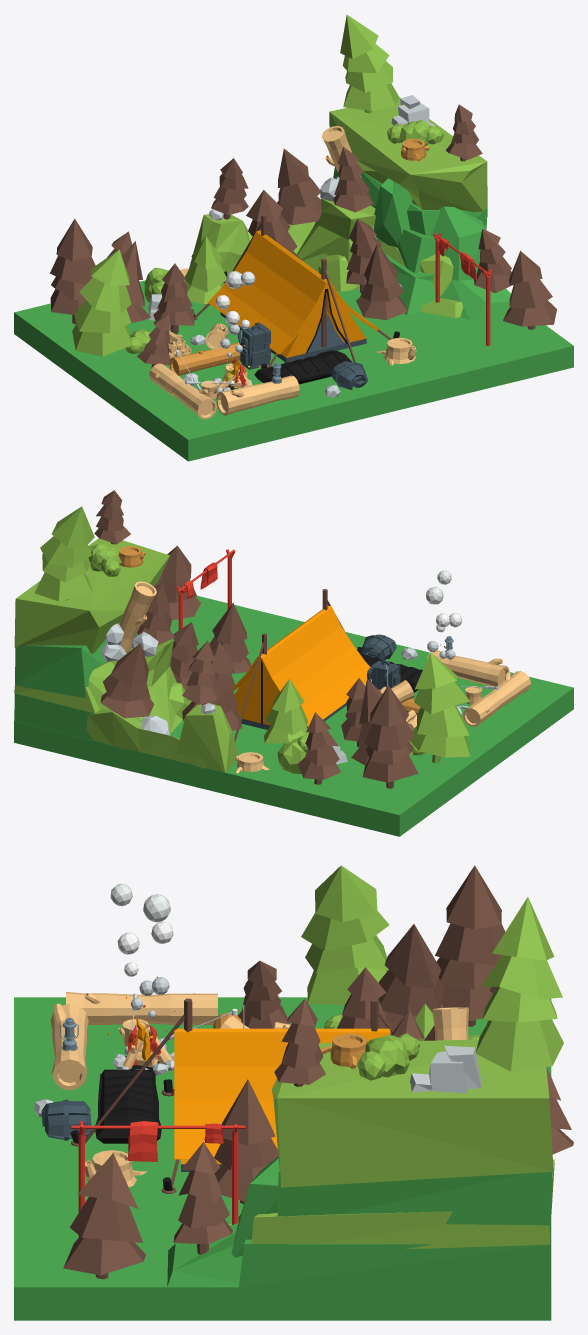
3 views of the same model, one above another, from view 1: azimuth 30°, elevation 25°; view 2: azimuth 150°, elevation 25°; view 3: azimuth 270°, elevation 25° (orthographic). The views are drawn at different scales.
Parts seen in each view (by area): view 1: mesh2016668438, mesh1952899948, mesh263612592, mesh892487588, mesh1952414952, mesh2025258381, mesh954393760, mesh1511101908, mesh800851294, mesh1019102024, mesh624108358, mesh947843091 (+32 smaller); view 2: mesh2016668438, mesh1952899948, mesh263612592, mesh892487588, mesh1952414952, mesh632722702, mesh2025258381, mesh1774266040, mesh1806860140, mesh800851294, mesh954393760, mesh1434122196 (+25 smaller); view 3: mesh2016668438, mesh1952899948, mesh1434122196, mesh1997237509, mesh632722702, mesh1952414952, mesh1511301575, mesh892487588, mesh2025258381, mesh1511101908, mesh282285962, mesh1019102024 (+19 smaller).
Part boxes in pixels (x1=…): mesh2016668438: x1=14, y1=280, x2=573, y2=461; mesh1952899948: x1=329, y1=97, x2=487, y2=217; mesh263612592: x1=208, y1=230, x2=327, y2=354; mesh892487588: x1=72, y1=249, x2=132, y2=356; mesh1952414952: x1=340, y1=14, x2=399, y2=113; mesh2025258381: x1=50, y1=219, x2=95, y2=324; mesh954393760: x1=296, y1=198, x2=378, y2=289; mesh1511101908: x1=503, y1=251, x2=556, y2=329; mesh800851294: x1=277, y1=148, x2=321, y2=225; mesh1019102024: x1=356, y1=244, x2=407, y2=319; mesh624108358: x1=431, y1=206, x2=486, y2=280; mesh947843091: x1=374, y1=178, x2=412, y2=247; mesh2016668438: x1=14, y1=595, x2=573, y2=836; mesh1952899948: x1=14, y1=538, x2=169, y2=653; mesh263612592: x1=260, y1=606, x2=371, y2=728; mesh892487588: x1=410, y1=652, x2=470, y2=763; mesh1952414952: x1=35, y1=506, x2=94, y2=601; mesh632722702: x1=15, y1=622, x2=120, y2=697; mesh2025258381: x1=362, y1=685, x2=418, y2=788; mesh1774266040: x1=86, y1=709, x2=205, y2=768; mesh1806860140: x1=176, y1=703, x2=238, y2=772; mesh800851294: x1=100, y1=643, x2=154, y2=718; mesh954393760: x1=88, y1=640, x2=182, y2=733; mesh1434122196: x1=14, y1=640, x2=174, y2=740; mesh2016668438: x1=14, y1=997, x2=551, y2=1320; mesh1952899948: x1=271, y1=1039, x2=553, y2=1187; mesh1434122196: x1=238, y1=1214, x2=550, y2=1287; mesh1997237509: x1=174, y1=1028, x2=390, y2=1159; mesh632722702: x1=277, y1=1170, x2=552, y2=1231; mesh1952414952: x1=476, y1=897, x2=563, y2=1071; mesh1511301575: x1=251, y1=1211, x2=550, y2=1249; mesh892487588: x1=301, y1=865, x2=389, y2=1005; mesh2025258381: x1=435, y1=865, x2=505, y2=1026; mesh1511101908: x1=63, y1=1153, x2=145, y2=1279; mesh282285962: x1=378, y1=924, x2=444, y2=1035; mesh1019102024: x1=214, y1=1079, x2=278, y2=1204.
Size of the model in its own units: 6.38 by 3.73 by 5.
